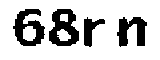6: (10, 6, 47, 50)
8: (46, 7, 81, 51)
n: (116, 15, 150, 52)
r: (80, 14, 111, 54)
